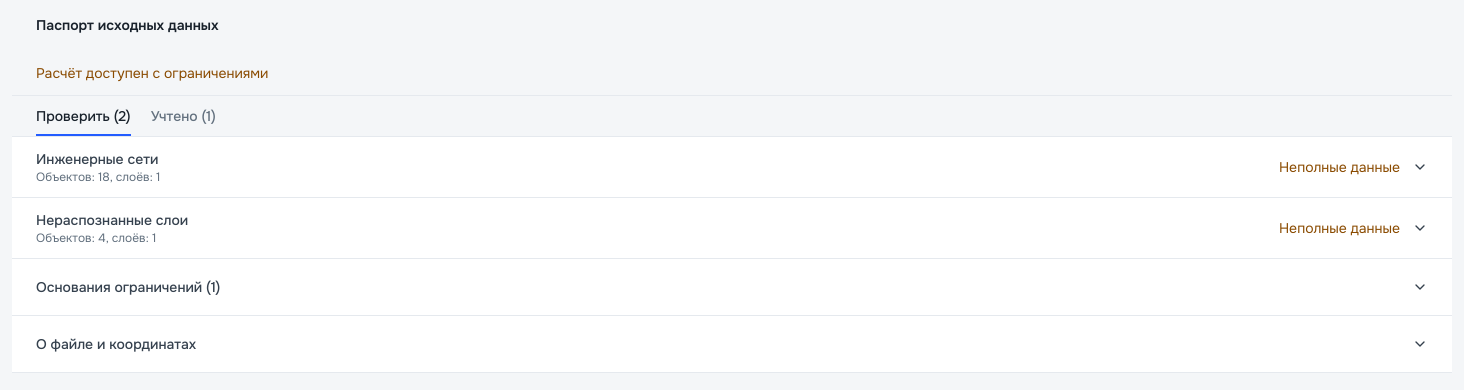
DataPassportPanel › shows evidence classes and makes limited bulk placement explicit
Check: the heading "Паспорт исходных данных" is shown, box [36,16,219,34]
Check: the text "Расчёт доступен с ограничениями" is shown, box [12,51,1452,96]
Click the tab "Учтено (1)" at (183, 116), box [151,96,216,136]
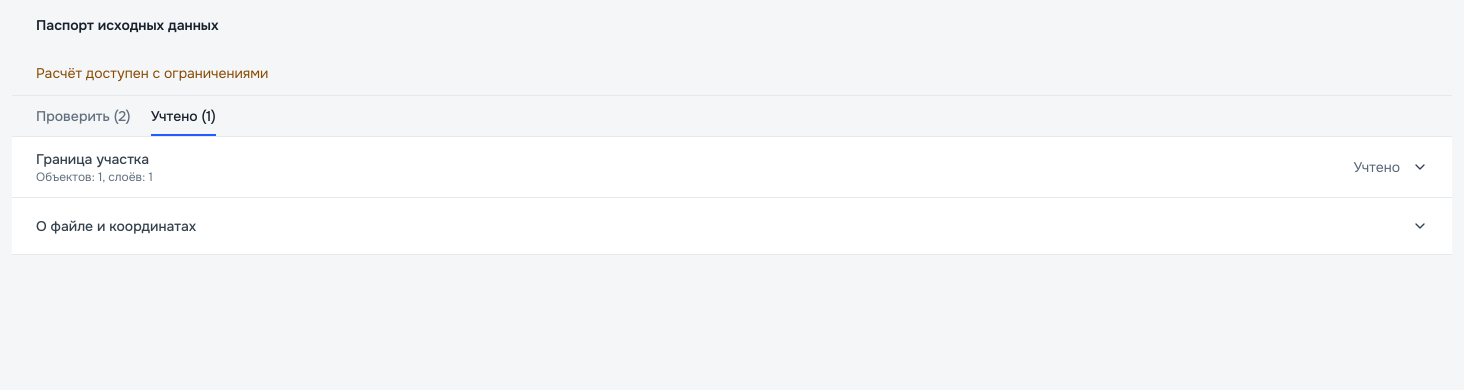
Check: the button "Инженерные сети" is gone
